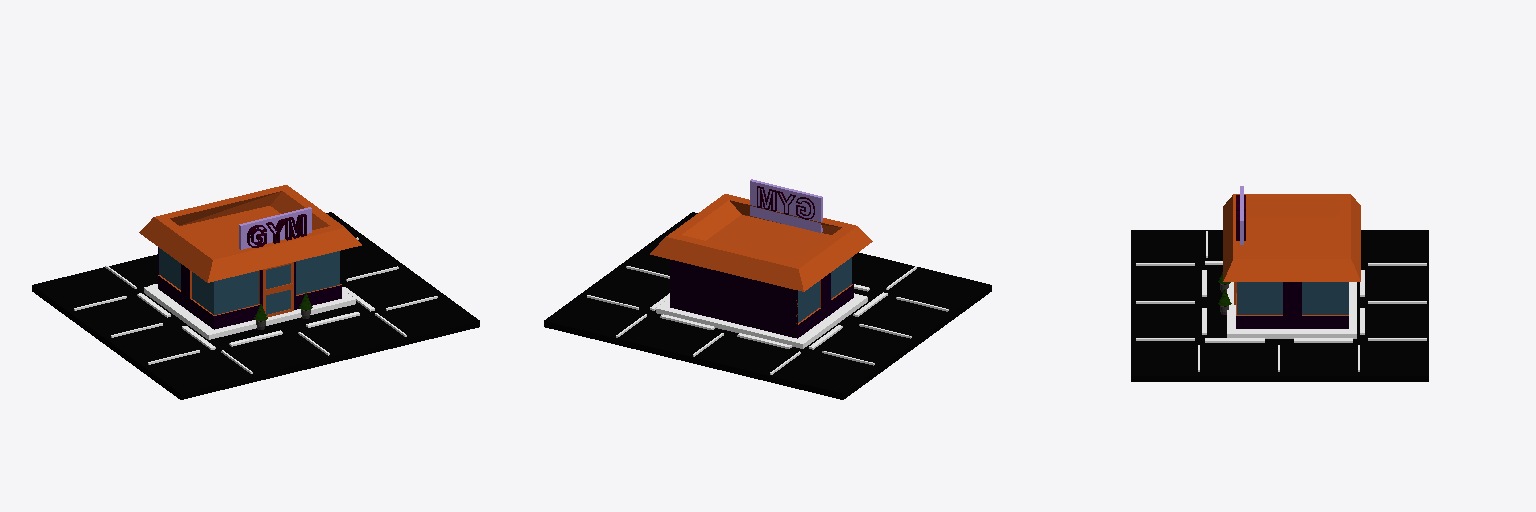
File: Gym_1269.obj
The picture shows the model from 3 angles: view 1: azimuth 30°, elevation 25°; view 2: azimuth 150°, elevation 25°; view 3: azimuth 270°, elevation 25°; orthographic projection.
Parts seen in each view (by area): view 1: Box001, Object002, Box002, Text001; view 2: Box001, Box002, Object002, Text001; view 3: Box001, Object002, Object004.
Boxes of the visible parts, <box> form: Box001: <box>32,191,479,399</box>; Object002: <box>155,185,285,259</box>; Box002: <box>239,207,311,249</box>; Text001: <box>247,214,306,247</box>; Box001: <box>544,200,991,399</box>; Box002: <box>750,179,822,232</box>; Object002: <box>668,226,856,268</box>; Text001: <box>757,186,814,219</box>; Box001: <box>1131,195,1428,381</box>; Object002: <box>1233,194,1350,258</box>; Object004: <box>1235,254,1349,258</box>.
Bounding box in the file's own units: 194 × 65.77 × 167.